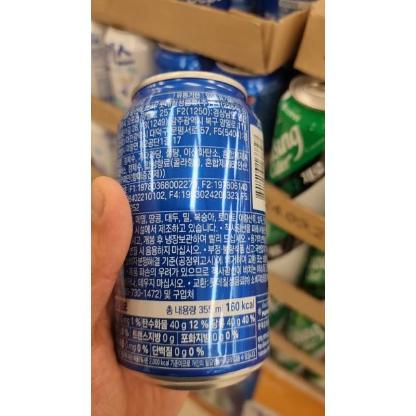Can: (113, 70, 271, 392)
